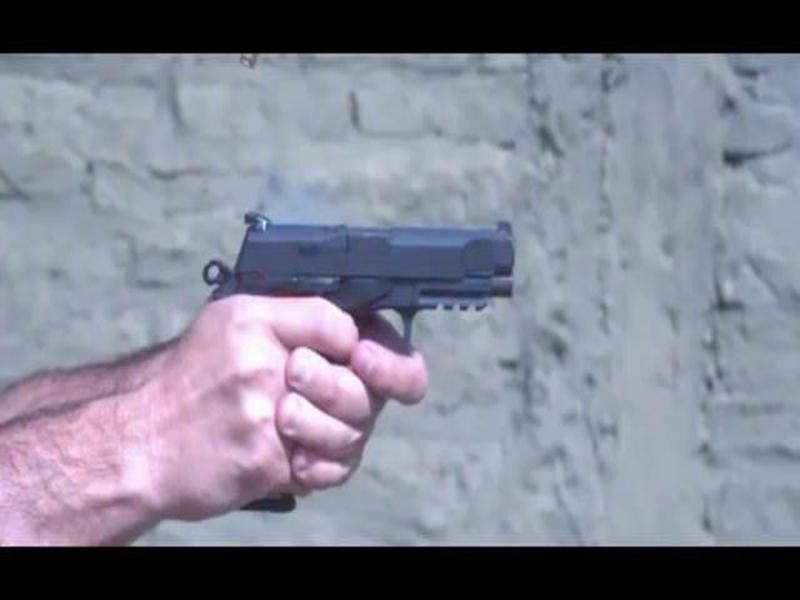Pistola: (185, 194, 529, 404)
